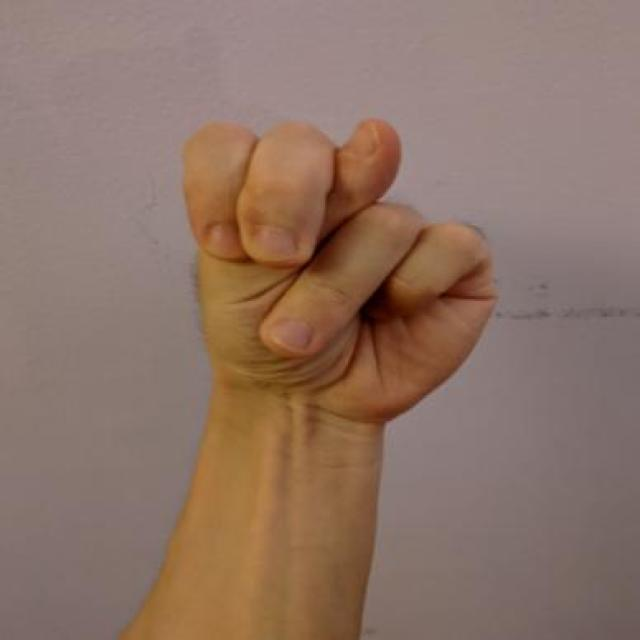N: (173, 102, 505, 432)
